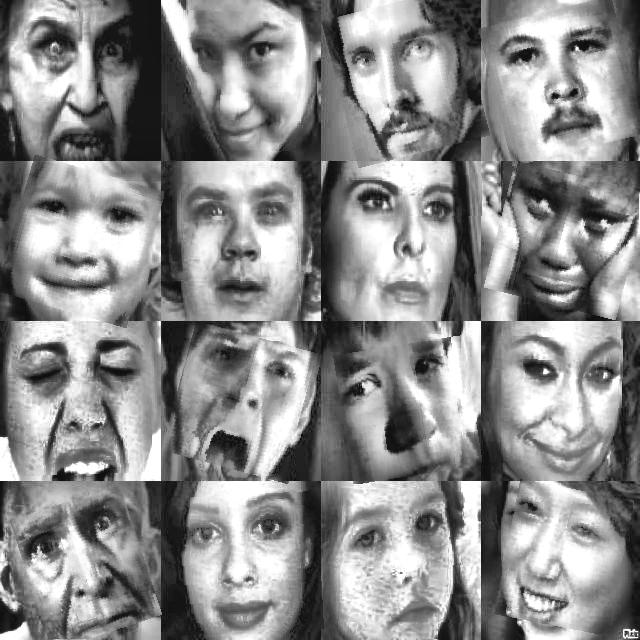angry: (15, 1, 154, 157)
fear: (168, 329, 314, 477), (18, 337, 151, 475), (188, 184, 292, 304)
happy: (4, 163, 156, 321), (500, 484, 628, 632), (181, 11, 297, 151), (509, 337, 622, 477)
neutral: (330, 0, 481, 161), (486, 3, 638, 159), (173, 493, 323, 635), (337, 489, 475, 639), (19, 491, 152, 640)
sad: (491, 167, 640, 313), (339, 173, 481, 314), (338, 340, 478, 480)
